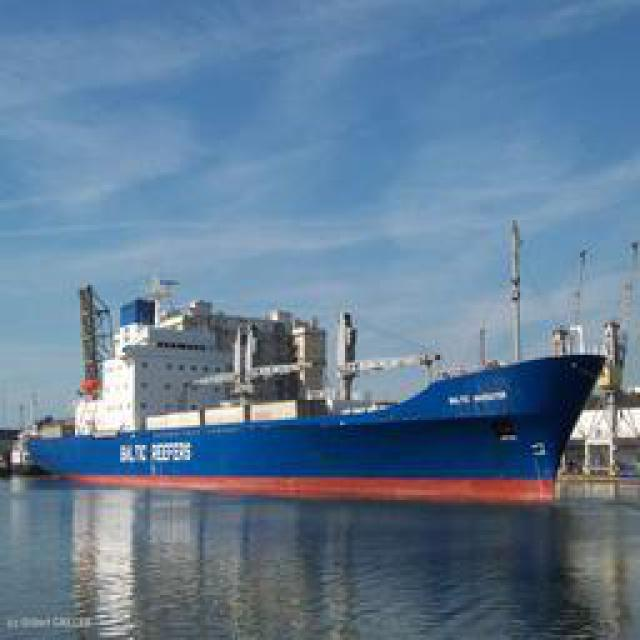Ship: (26, 341, 609, 494)
